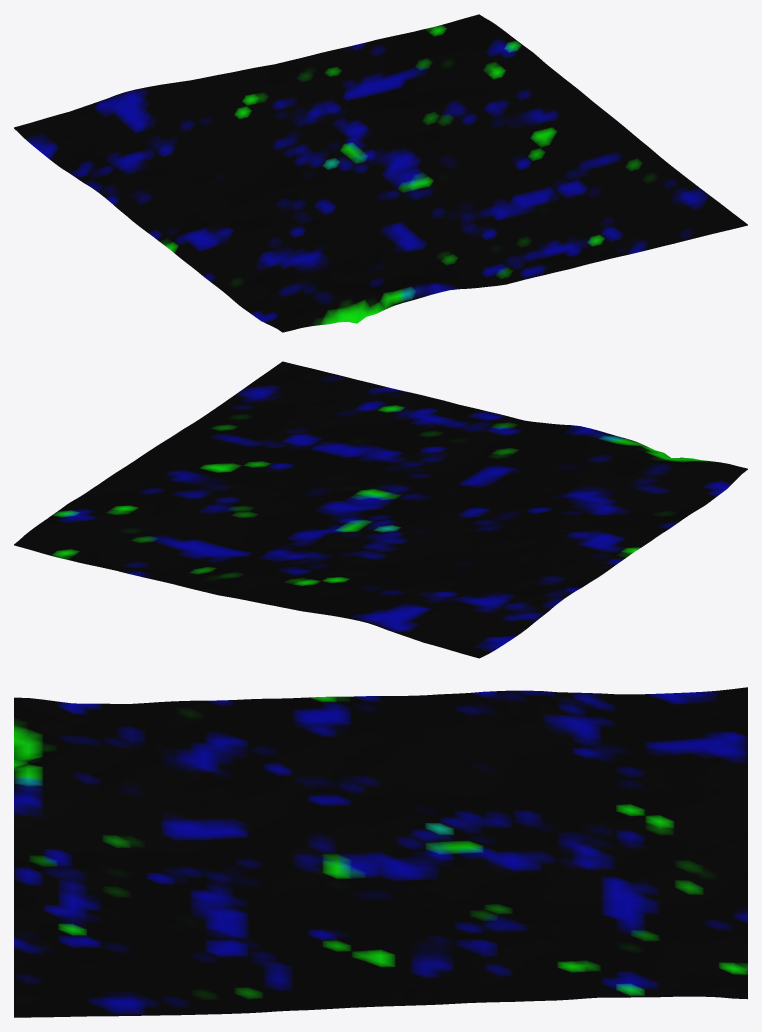
The model's file is coast_-1600_-1600_800.glb.
3 views of the same model, one above another, from view 1: azimuth 30°, elevation 25°; view 2: azimuth 150°, elevation 25°; view 3: azimuth 270°, elevation 25° (orthographic). The views are drawn at different scales.
Parts seen in each view (by area): view 1: terrain; view 2: terrain; view 3: terrain.
Part boxes in pixels (box(x1,y1,x2,y2)): terrain: box(14, 14, 747, 332); terrain: box(14, 361, 747, 658); terrain: box(14, 687, 747, 1017).
Size of the model in its own units: 800 by 42.85 by 800.
